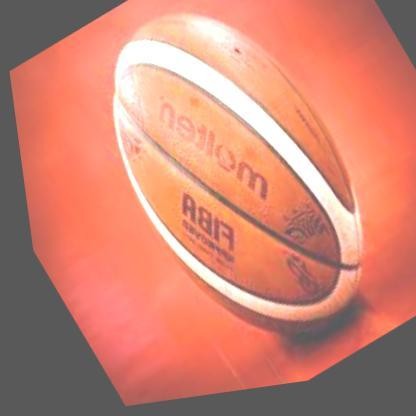basketball: (51, 0, 413, 399)
